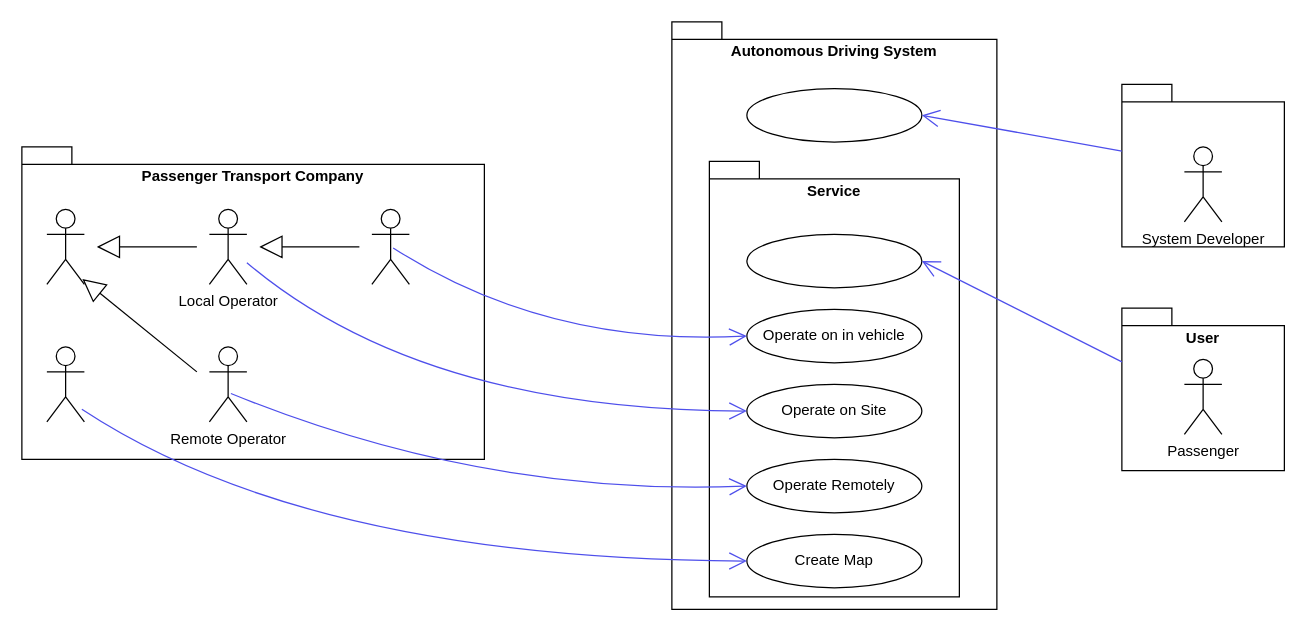
Image size: 1306x631. Some labels were removed from this diagram. Here are the shapes that lost their labels. From the top down, the box of each, then its label:
(746, 87, 922, 142): Develop System
(1121, 83, 1284, 247): System Provider
(46, 208, 84, 284): Operator
(371, 208, 409, 284): In-Vehicle Operator
(746, 233, 922, 288): Use
(46, 346, 84, 422): Cartographer
